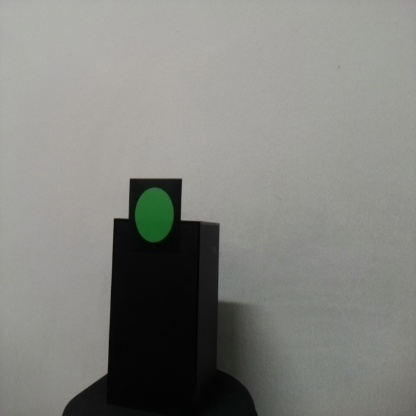id_5: (128, 178, 181, 268)
